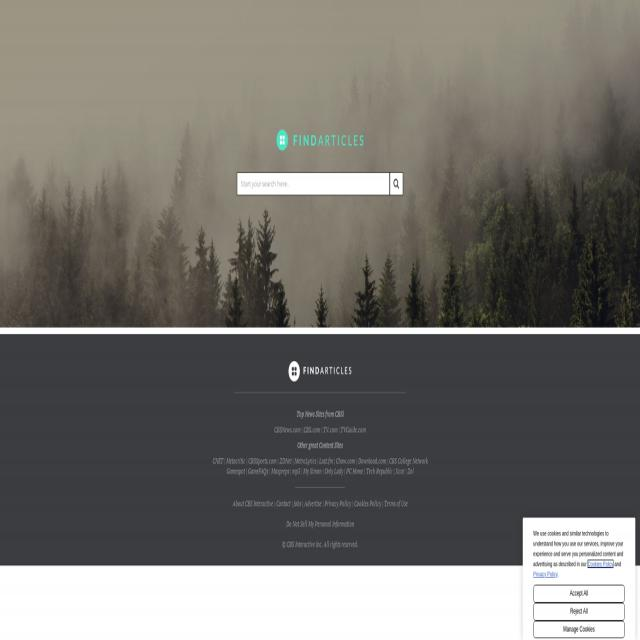button: (277, 130, 363, 150), (534, 584, 624, 602), (534, 604, 625, 620), (533, 622, 624, 637), (288, 361, 352, 382), (390, 173, 402, 195)
field: (237, 172, 390, 195)
